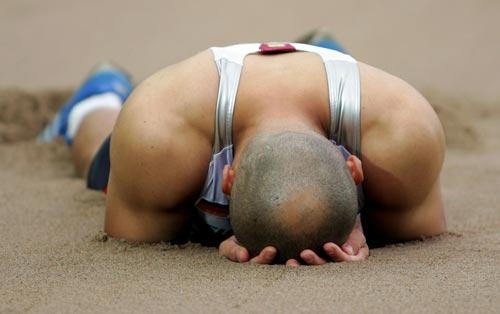fall: (21, 15, 474, 267)
